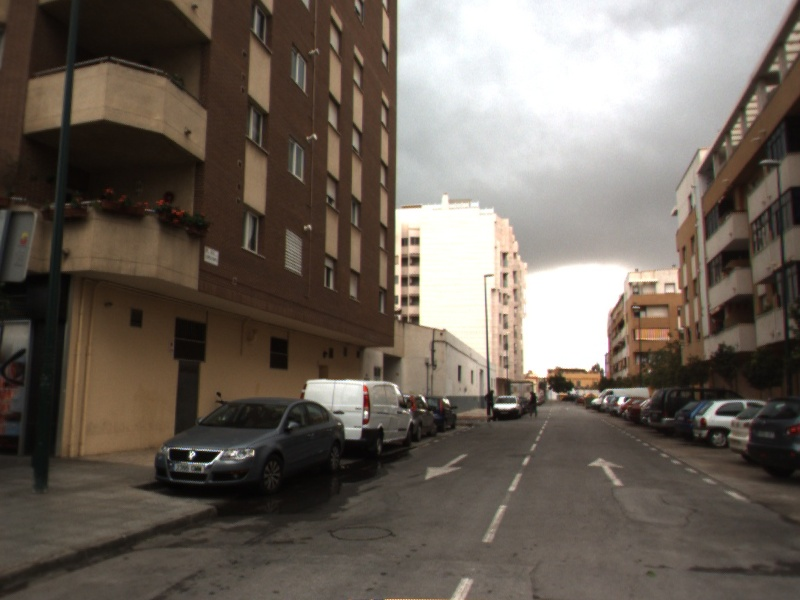STRAIGHT: (585, 455, 628, 488)
